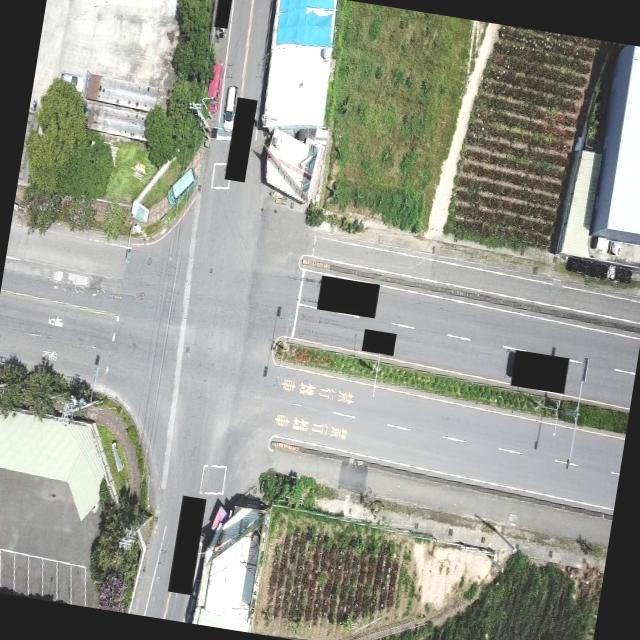bike: (215, 28, 228, 42)
bus: (200, 57, 227, 111), (164, 166, 197, 210)
car: (219, 82, 240, 134), (56, 68, 82, 95)
